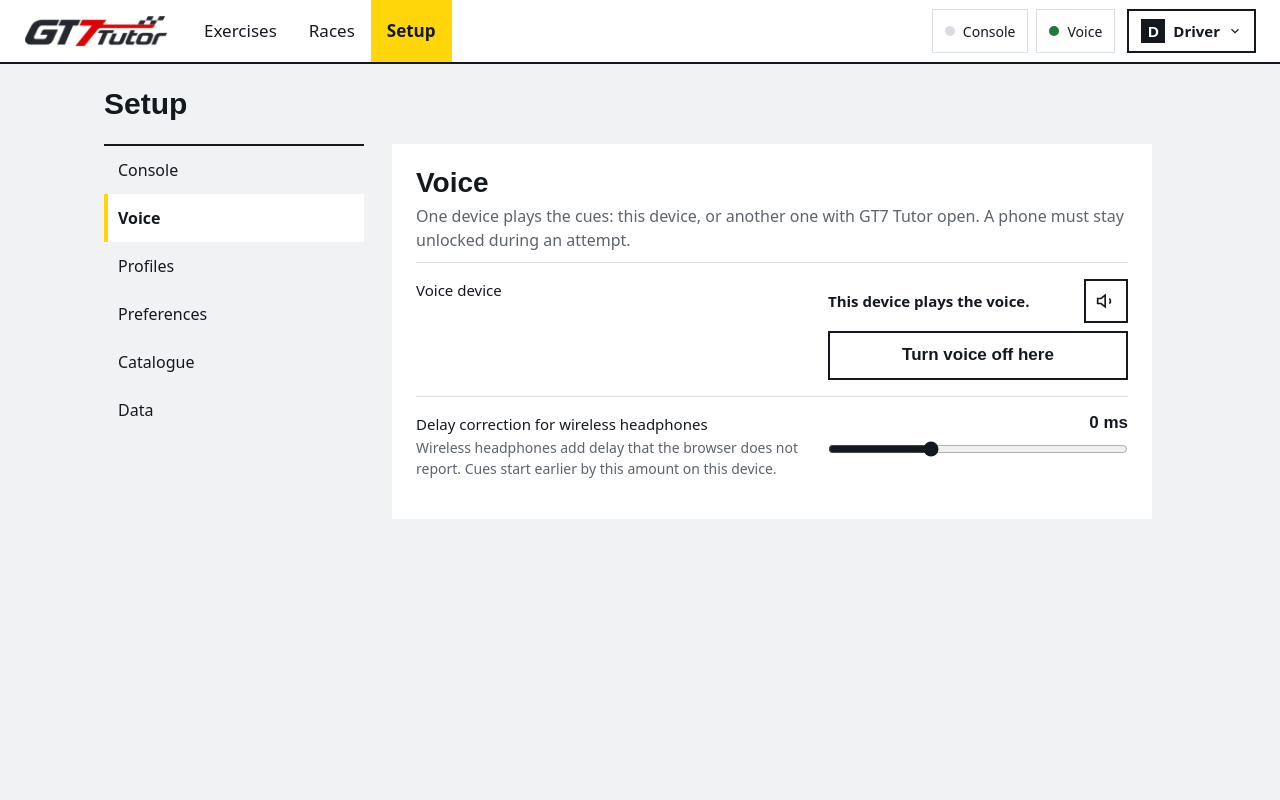
Scenario: setup fixes › voice_off_message_says_the_drive_screen_still_shows_the_cues
Expected: the heading "Voice" is shown, 416,166 -> 489,198
Click the button "Turn voice off here": click(978, 356) 828,331 -> 1128,380
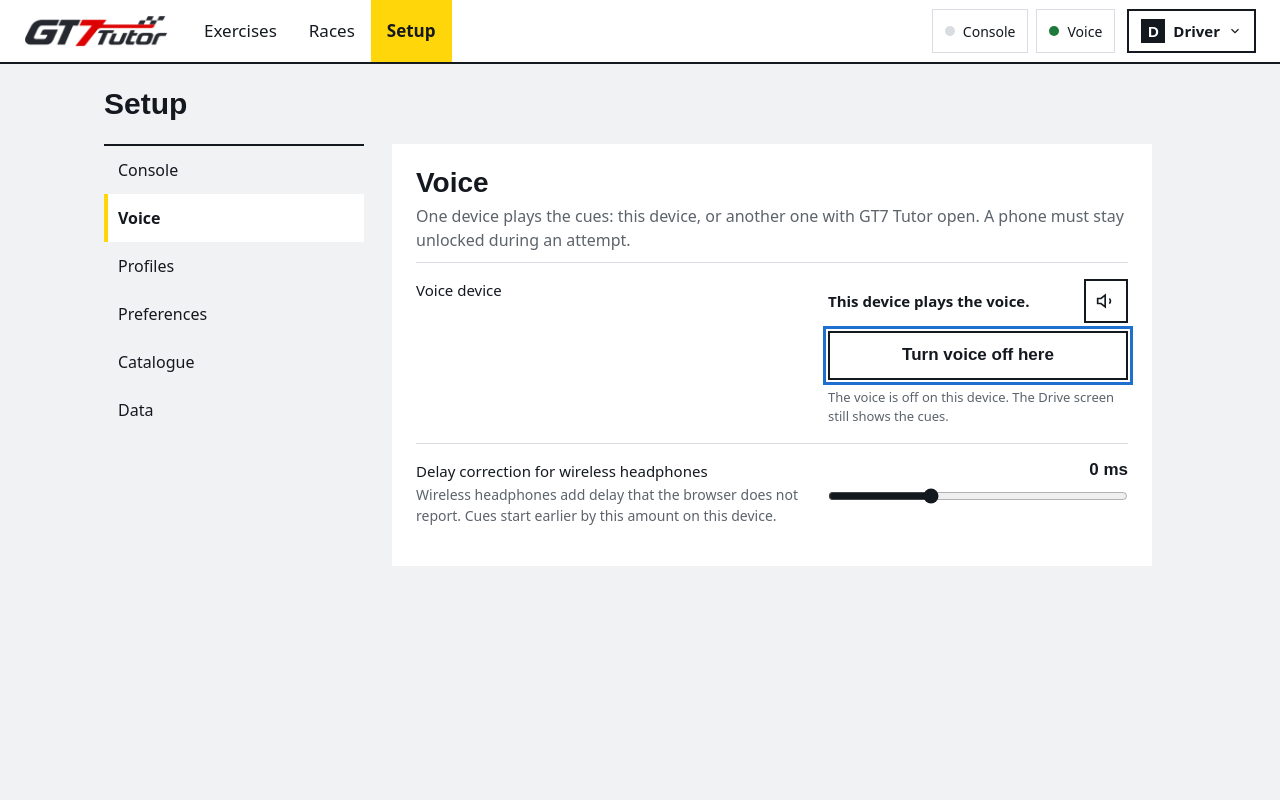
Expected: the text "The voice is off on this device. The Drive screen still shows the cues." is shown, 828,388 -> 1128,427
